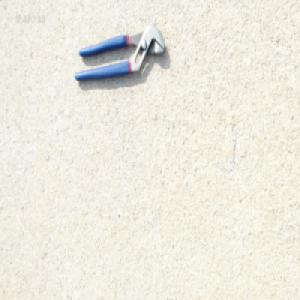Pliers: (73, 22, 167, 85)
